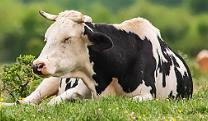cow: (17, 11, 193, 106)
